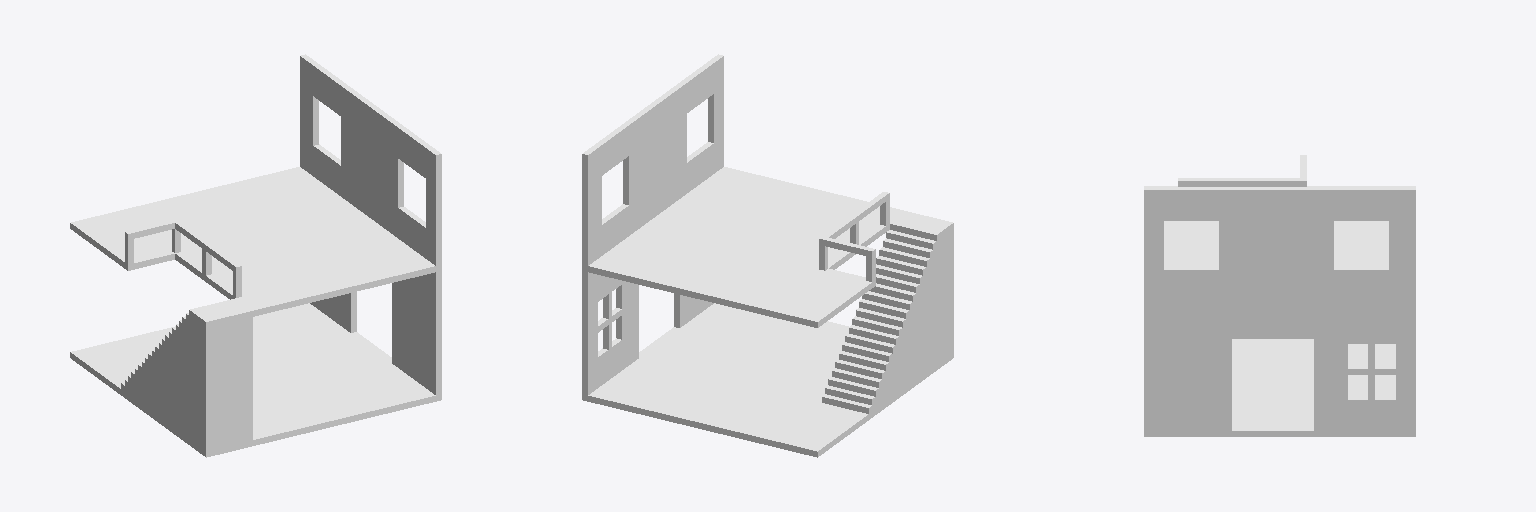
File: House_Mockup.obj
3 views of the same model, side by side, from view 1: azimuth 30°, elevation 25°; view 2: azimuth 150°, elevation 25°; view 3: azimuth 270°, elevation 25° (orthographic).
Visible parts, largest first — view 1: object 1; view 2: object 1; view 3: object 1.
Boxes of the visible parts, x1,y1,x2,y2 form: object 1: [70, 54, 441, 457]; object 1: [582, 54, 953, 457]; object 1: [1144, 155, 1415, 436].
Size of the model in its own units: 4 by 4 by 4.